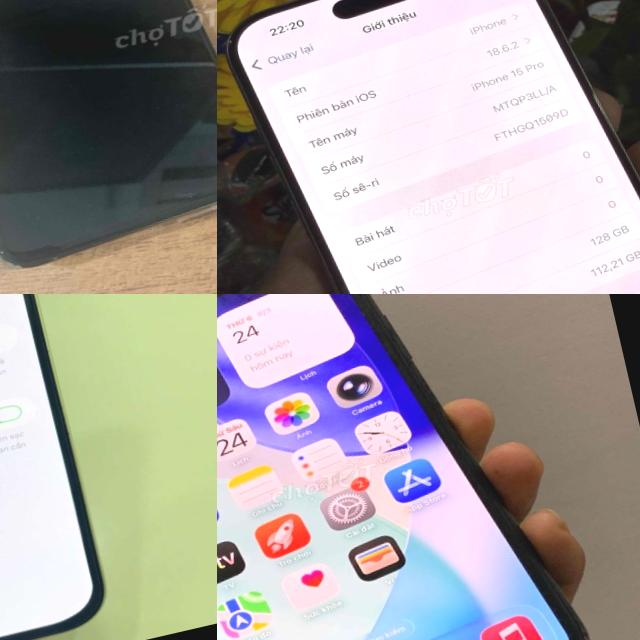gen_11: (217, 294, 614, 640)
gen_14: (0, 294, 121, 640)
gen_15: (217, 0, 640, 294)
gen_x_xs: (0, 0, 217, 265)
scratch: (0, 241, 13, 261)
